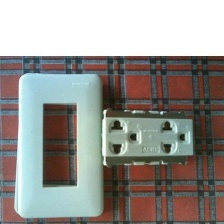three_eye_plug: (99, 105, 196, 169)
